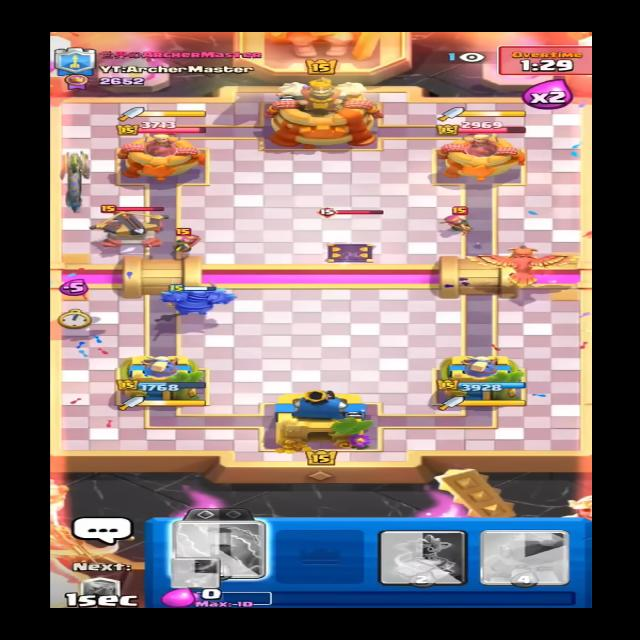archer: (170, 228, 202, 253), (441, 207, 474, 231)
evo-tesla-closed: (308, 208, 390, 266)
x-bow: (89, 203, 171, 249)
